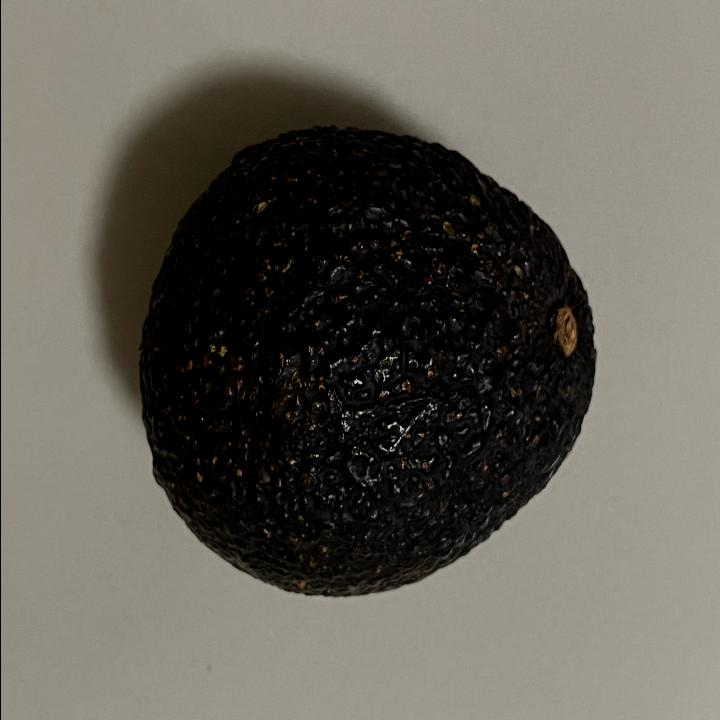Level2: (131, 119, 604, 608)
